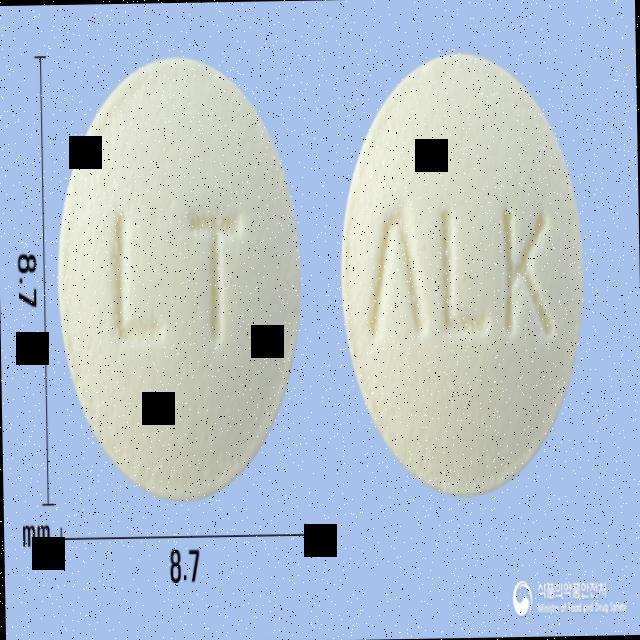Levotam: (336, 46, 588, 498), (56, 51, 306, 506)
